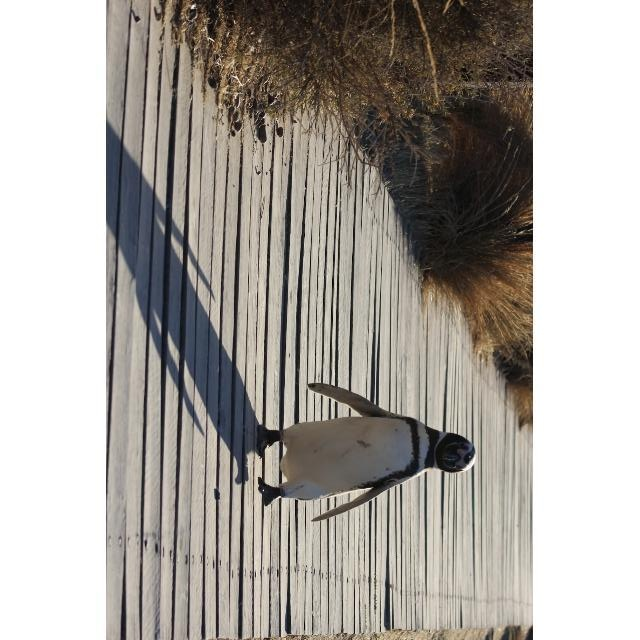penguin: (254, 382, 478, 522)
